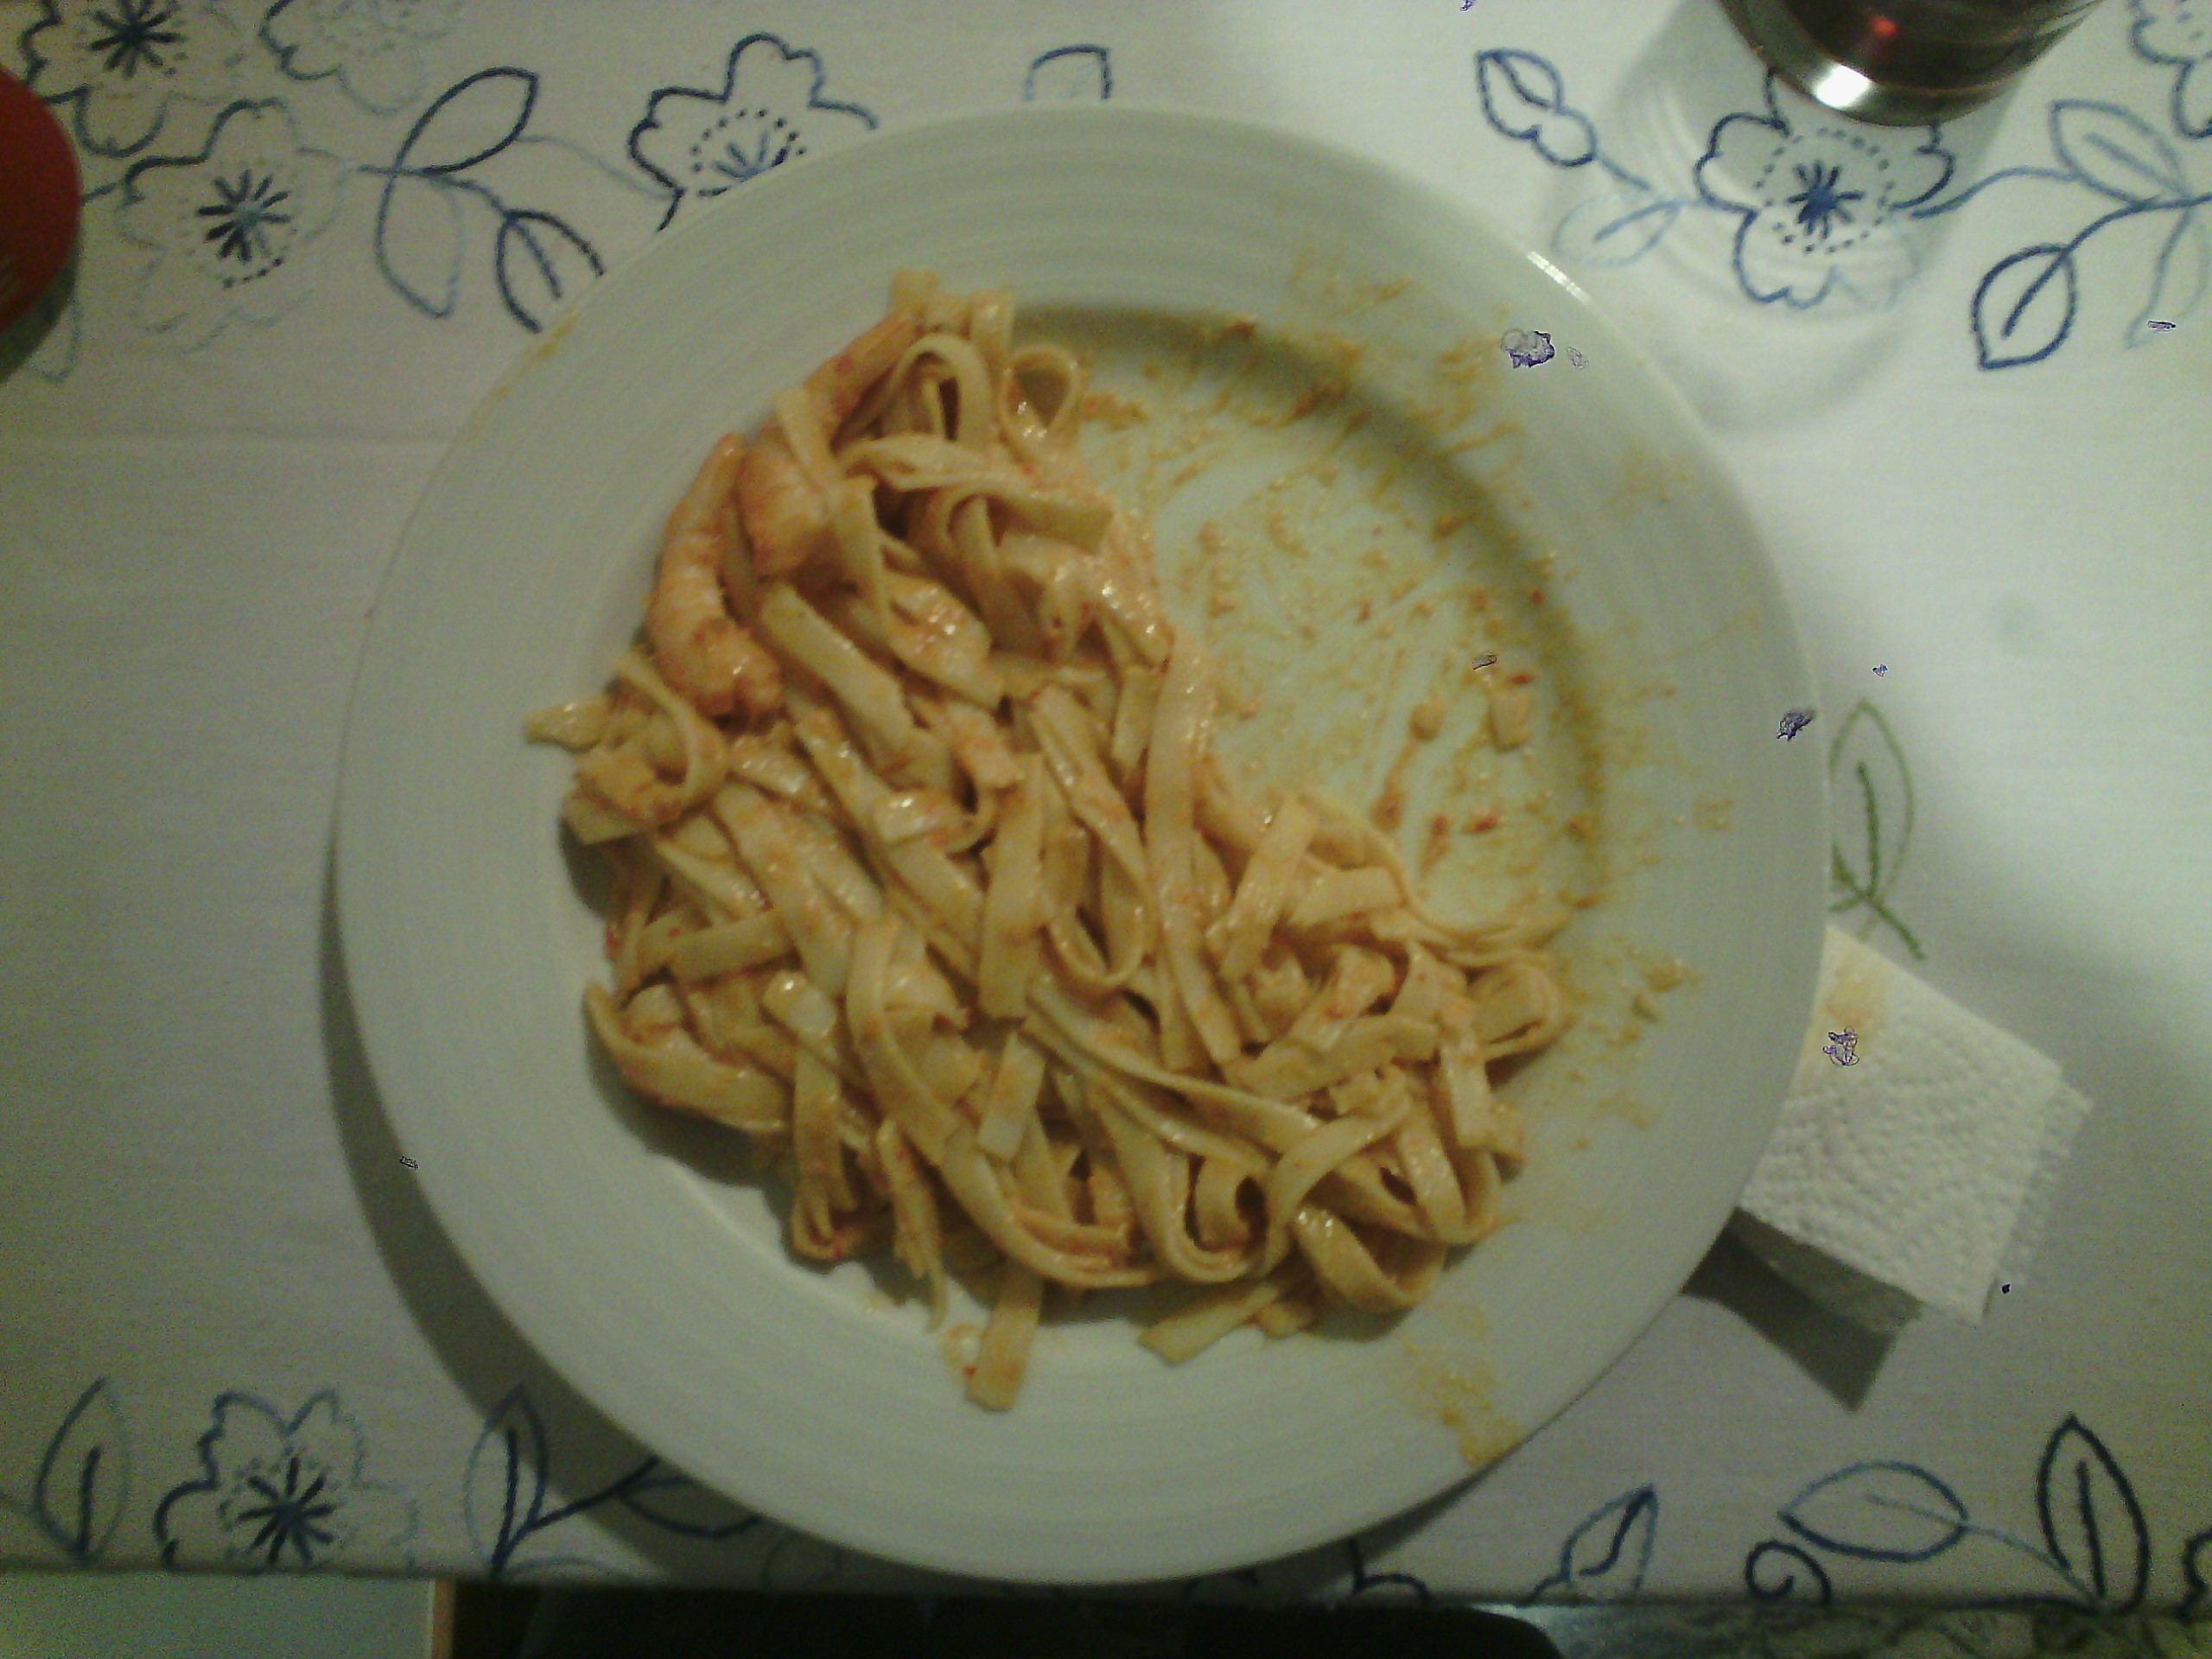61-80: (347, 108, 1844, 1596)
